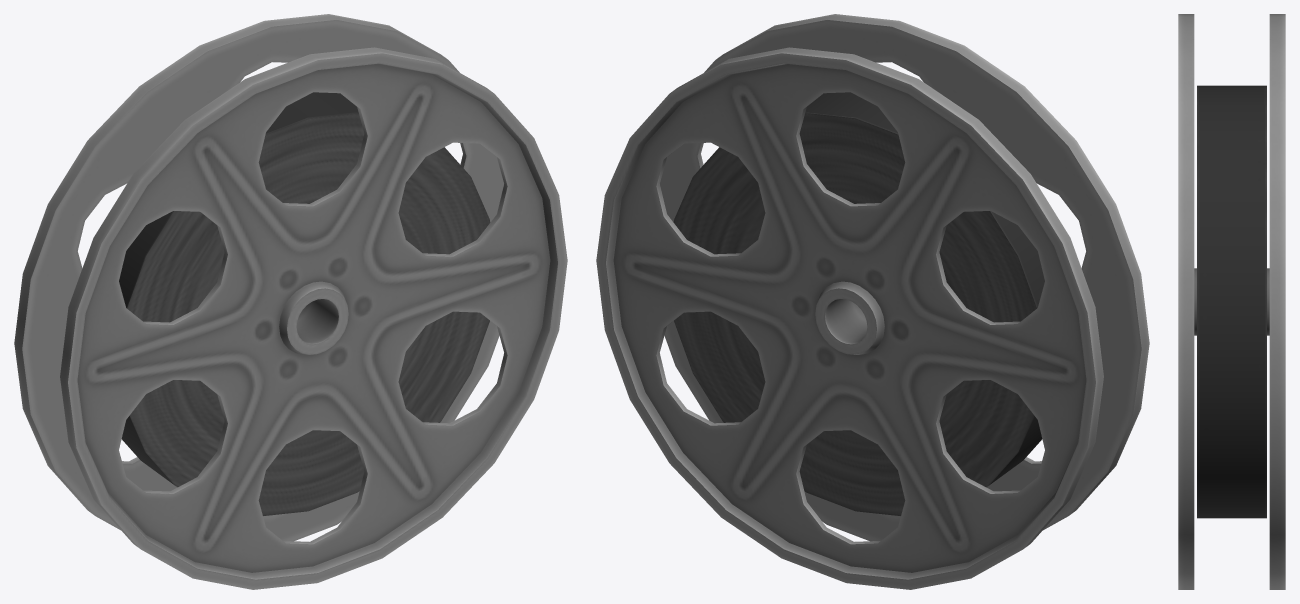
File: item-02.glb
3 renders of one model, left to right at view 1: azimuth 30°, elevation 25°; view 2: azimuth 150°, elevation 25°; view 3: azimuth 270°, elevation 25°, orthographic.
Visible parts, largest first — view 1: Film_Reel; view 2: Film_Reel; view 3: Film_Reel.
Part boxes in pixels (x1,y1,x2,y2): Film_Reel: (14,14,567,589); Film_Reel: (596,14,1149,589); Film_Reel: (1178,14,1285,589).
Size of the model in its own units: 0.7941 by 0.7941 by 0.1476.
Materials: 1 (1 with a texture image).
